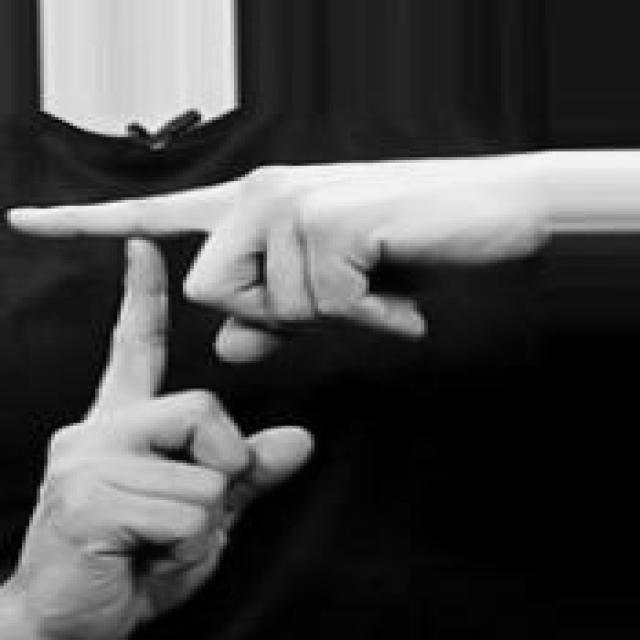T: (0, 156, 555, 639)
